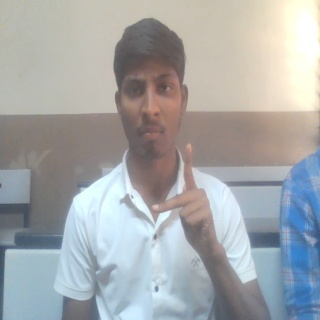Okay: (149, 141, 226, 264)
